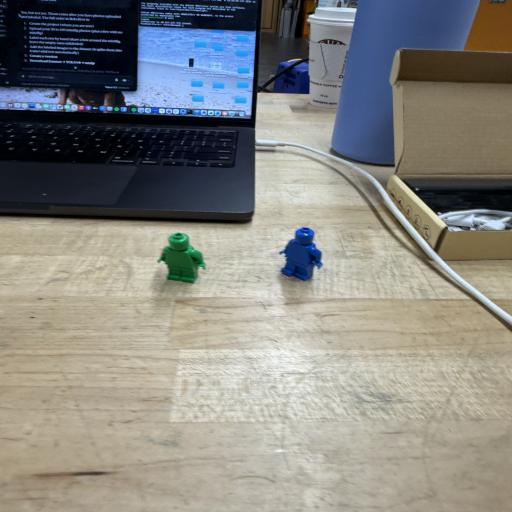blue-minifig: (280, 227, 322, 280)
green-minifig: (158, 233, 205, 283)
